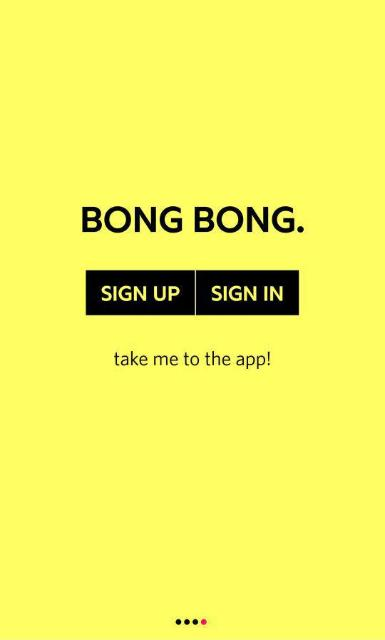PageIndicator: (175, 618, 207, 624)
Text: (82, 205, 304, 232), (114, 351, 270, 369), (102, 285, 180, 301), (212, 286, 284, 300)
TextButton: (86, 270, 194, 316), (196, 270, 298, 316)
